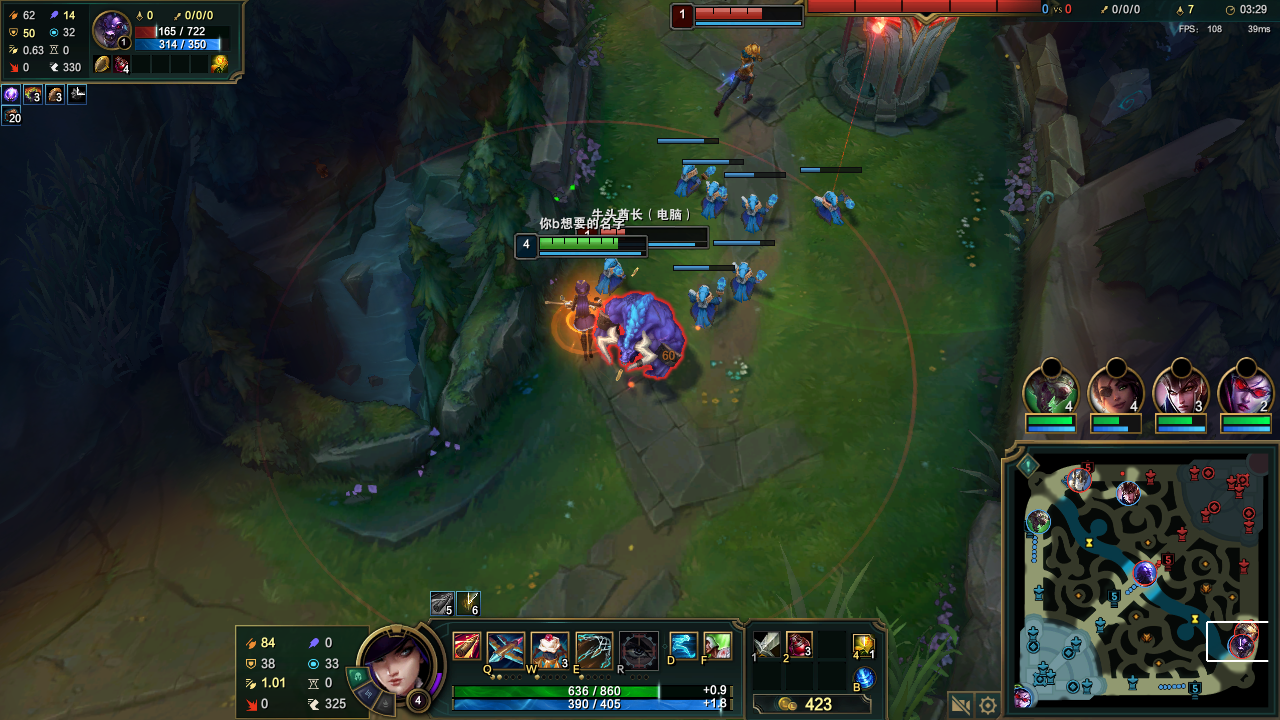DFFYT: (828, 1, 984, 131)
DFYX: (697, 5, 774, 20), (594, 228, 702, 238)
WFXB: (736, 180, 786, 241), (809, 177, 864, 231), (728, 257, 771, 307), (667, 154, 709, 203), (686, 281, 729, 327), (698, 174, 738, 223), (589, 256, 633, 292)
Yita: (1186, 674, 1204, 698)
